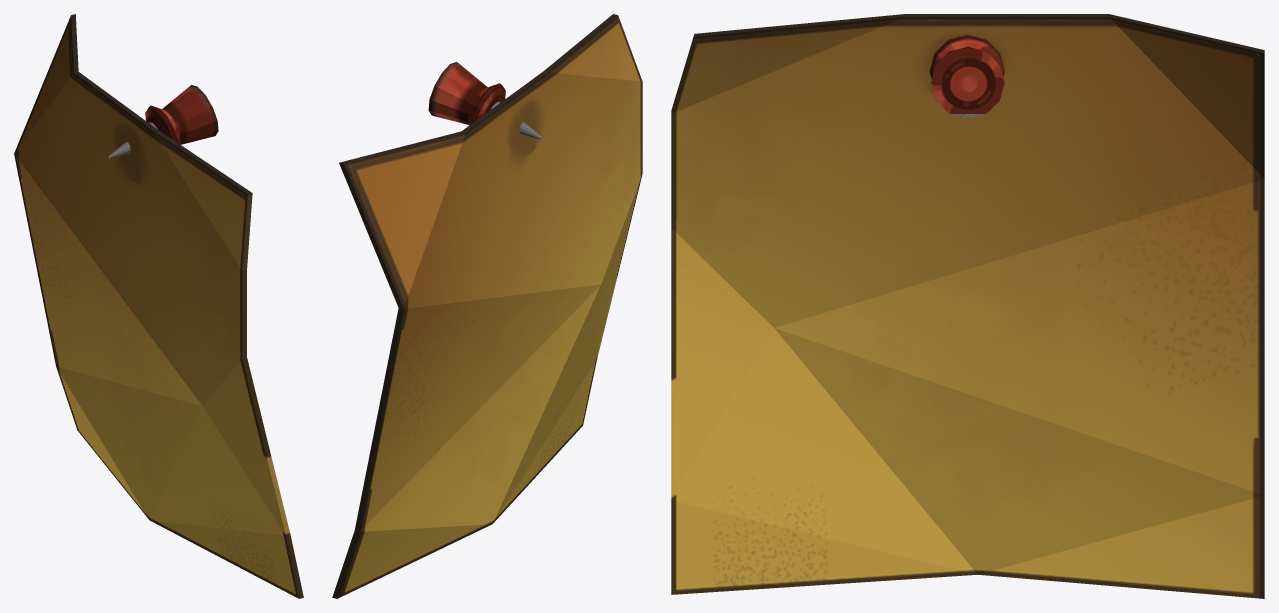
The model's file is Note Orange.fbx.
The picture shows the model from 3 angles, left to right: view 1: azimuth 30°, elevation 25°; view 2: azimuth 150°, elevation 25°; view 3: azimuth 270°, elevation 25°; orthographic projection. The views are drawn at different scales.
Visible parts, largest first — view 1: NotesTexture, Pin; view 2: NotesTexture, Pin; view 3: NotesTexture, Pin.
Boxes of the visible parts, box(x1,y1,x2,y2) form: NotesTexture: box(14, 14, 303, 598); Pin: box(108, 85, 218, 158); NotesTexture: box(332, 14, 642, 598); Pin: box(428, 62, 542, 139); NotesTexture: box(671, 14, 1264, 598); Pin: box(929, 34, 1004, 118).
Size of the model in its own units: 33.38 by 136 by 133.
2 materials, 2 textured.
